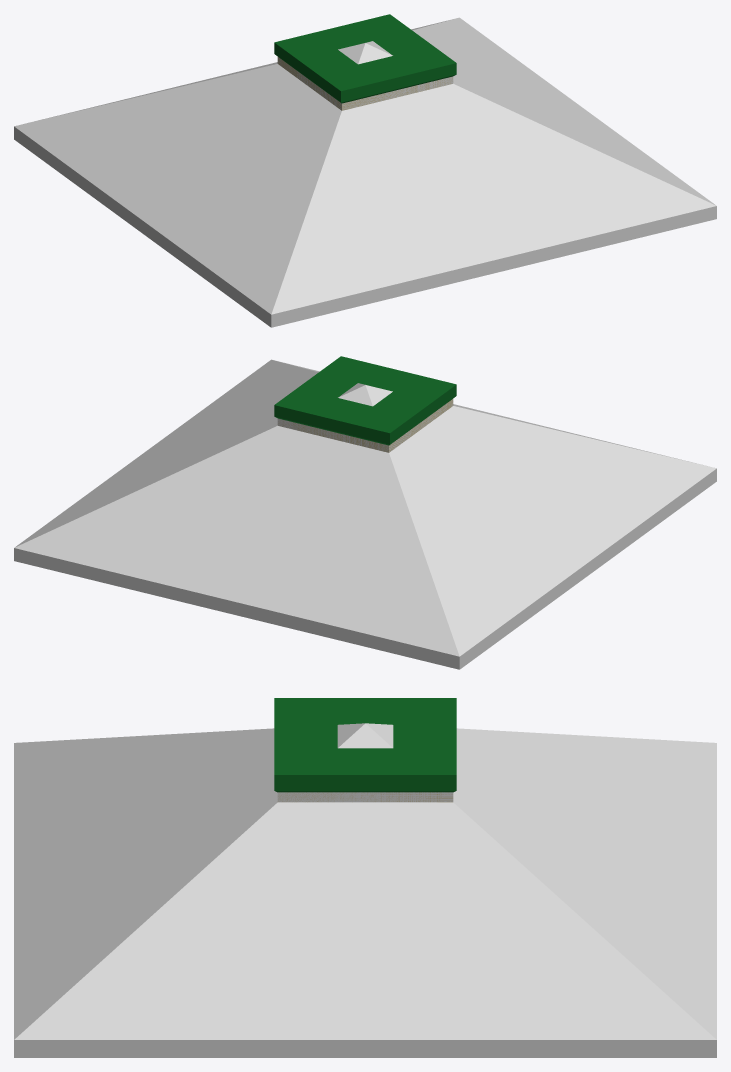
Rendered from tile_test.FBX.
3 views of the same model, one above another, from view 1: azimuth 30°, elevation 25°; view 2: azimuth 150°, elevation 25°; view 3: azimuth 270°, elevation 25° (orthographic). The views are drawn at different scales.
Parts seen in each view (by area): view 1: roof, tile (×2); view 2: roof, tile (×2); view 3: roof, tile, step.
Part boxes in pixels (x1,y1,x2,y2): roof: [14, 17, 716, 327]; tile (×2): [274, 14, 456, 110]; roof: [14, 359, 716, 669]; tile (×2): [274, 356, 456, 452]; roof: [14, 723, 716, 1057]; tile: [274, 698, 456, 802]; step: [277, 792, 453, 802].
Size of the model in its own units: 600 by 600 by 175.
